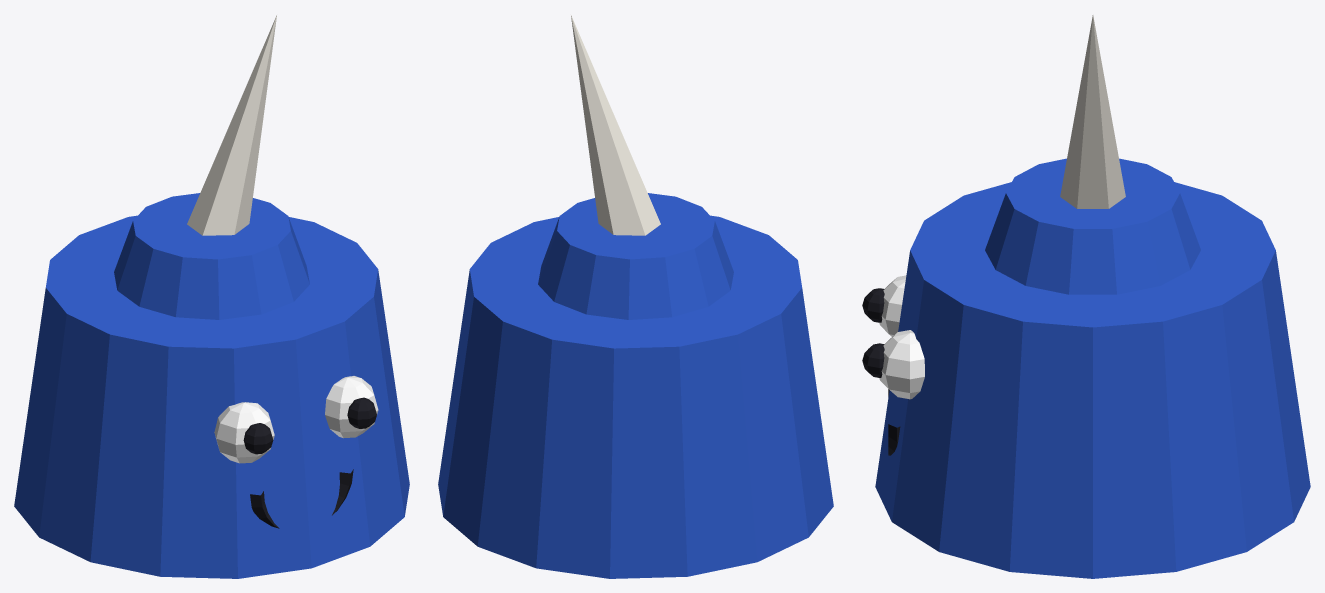
The model's file is smiling_inkwell.glb.
3 renders of one model, left to right at view 1: azimuth 30°, elevation 25°; view 2: azimuth 150°, elevation 25°; view 3: azimuth 270°, elevation 25°, orthographic. The views are drawn at different scales.
Visible parts, largest first — view 1: well_inkwell_blue, neck_inkwell_blue, quill_quill_white, eye_smile_white, pupil_smile_dark, smile_smile_dark; view 2: well_inkwell_blue, neck_inkwell_blue, quill_quill_white; view 3: well_inkwell_blue, neck_inkwell_blue, quill_quill_white, eye_smile_white, pupil_smile_dark.
Part boxes in pixels (<box>): well_inkwell_blue: <box>14,215,409,578</box>; neck_inkwell_blue: <box>114,193,309,319</box>; quill_quill_white: <box>187,15,276,235</box>; eye_smile_white: <box>214,376,378,463</box>; pupil_smile_dark: <box>243,397,376,454</box>; smile_smile_dark: <box>250,469,353,528</box>; well_inkwell_blue: <box>438,215,833,578</box>; neck_inkwell_blue: <box>538,193,733,319</box>; quill_quill_white: <box>571,15,660,235</box>; well_inkwell_blue: <box>875,182,1310,578</box>; neck_inkwell_blue: <box>985,158,1200,294</box>; quill_quill_white: <box>1060,15,1125,208</box>; eye_smile_white: <box>879,275,924,399</box>; pupil_smile_dark: <box>862,288,884,377</box>.
Size of the model in its own units: 1 by 1.29 by 1.03.
